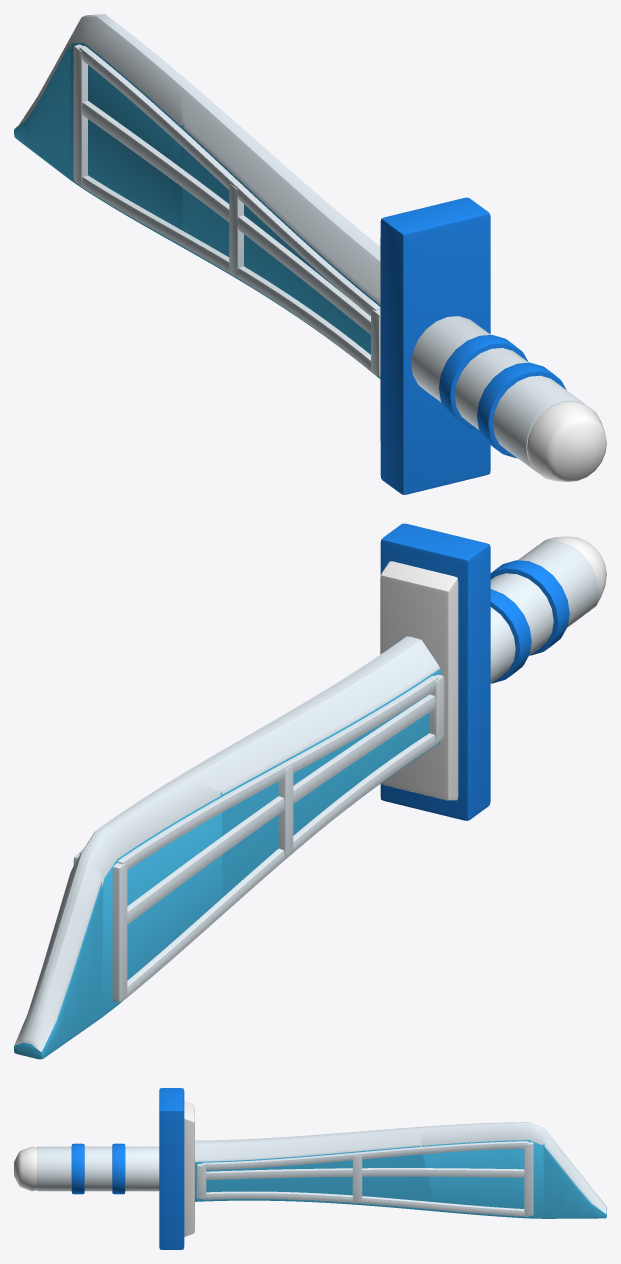
The model's file is Sword_FrostpaneSabre.glb.
3 renders of one model, top to bottom at view 1: azimuth 30°, elevation 25°; view 2: azimuth 150°, elevation 25°; view 3: azimuth 270°, elevation 25°, orthographic. The views are drawn at different scales.
Visible parts, largest first — view 1: Sword_FrostpaneSabre; view 2: Sword_FrostpaneSabre; view 3: Sword_FrostpaneSabre.
Part boxes in pixels (<box>): Sword_FrostpaneSabre: <box>14,14,606,494</box>; Sword_FrostpaneSabre: <box>14,523,606,1059</box>; Sword_FrostpaneSabre: <box>14,1088,606,1249</box>.
Size of the model in its own units: 0.092 by 0.26 by 1.
1 material, 1 textured.
